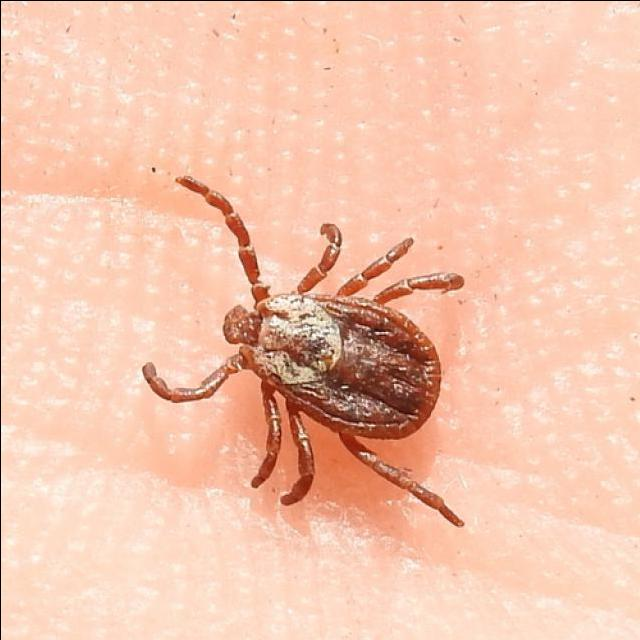Dermacentor Reticulatus-F: (141, 175, 462, 526)
